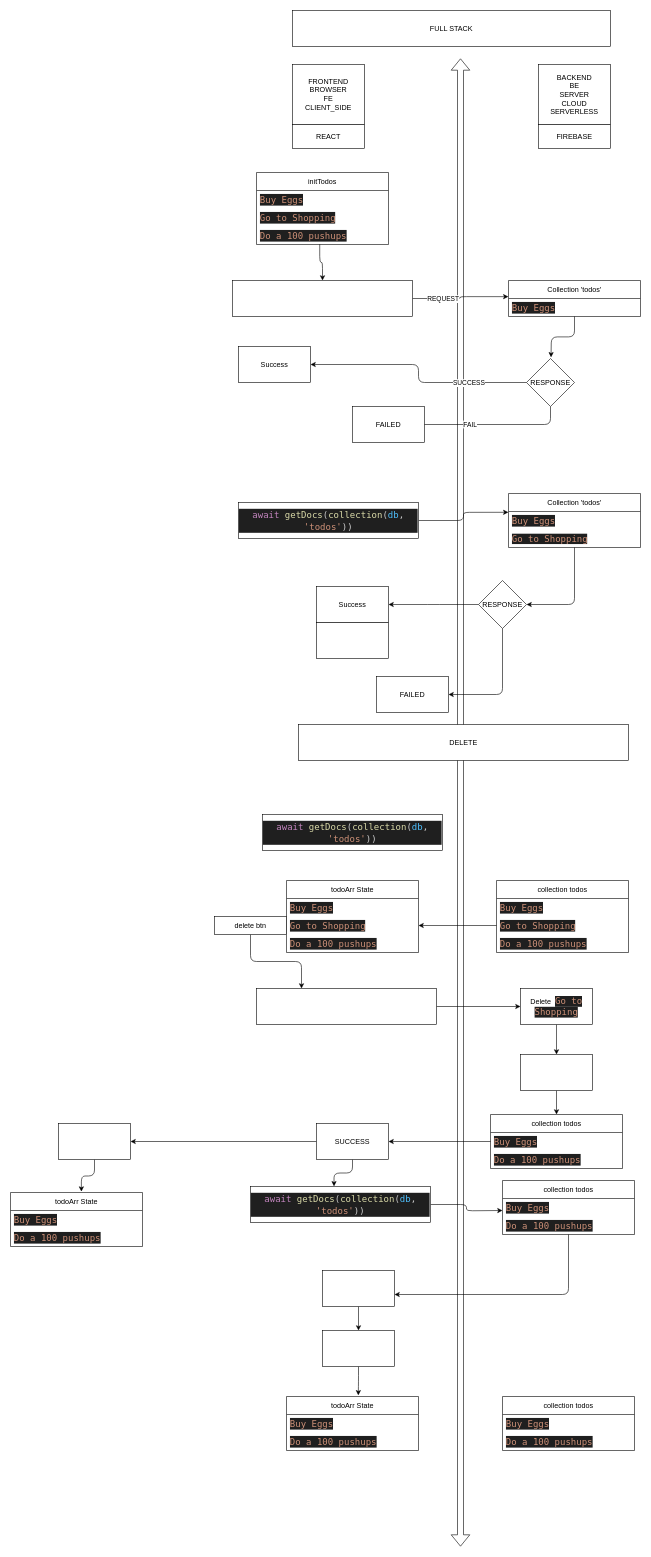
Image size: 651x1557. Some labels were removed from this diagram. Here are the shapes that lost their labels. From the top down, the centre of each, then its label:
At pixel 322 298: "await addDoc ( collection ( db , 'todos' ), initTodo );".
At pixel 352 640: "TODOS[]".
At pixel 346 1006: "await deleteDoc ( doc ( db , 'todos' , idToDelete ))".
At pixel 556 1072: "DELETING".
At pixel 94 1141: "FILTER LOCAL STATE LOCAL DELETE".
At pixel 358 1288: "TODOARR []".
At pixel 358 1348: "ATNAUJINAM JSX".
